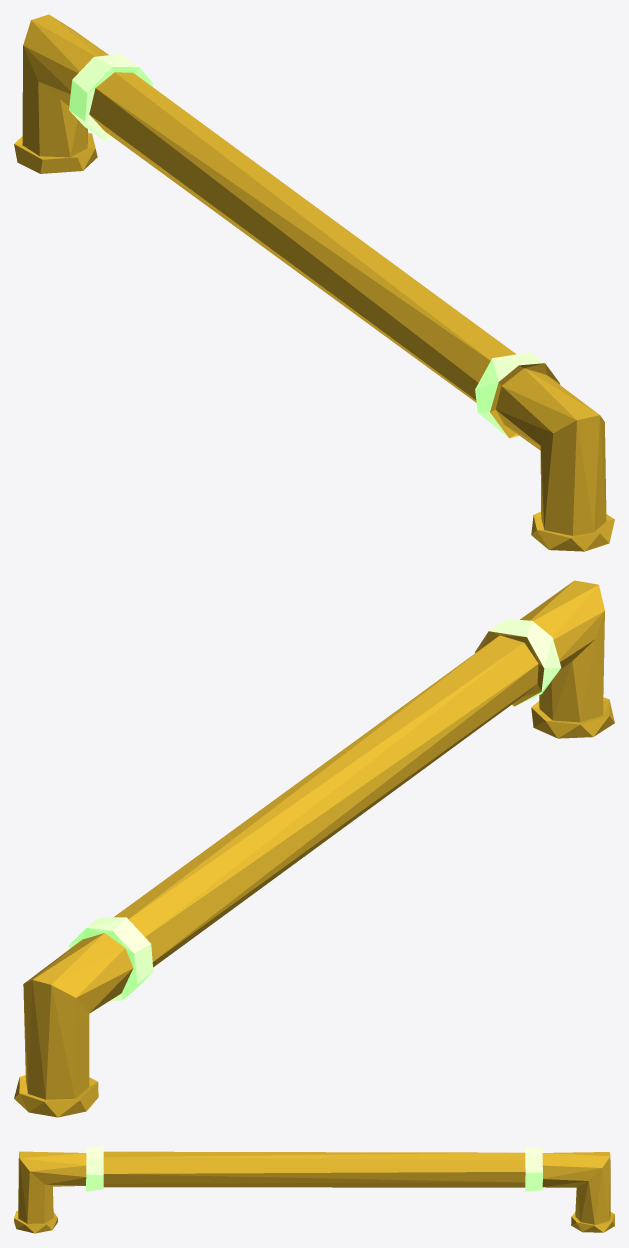
Rendered from Pipe1.fbx.
3 views of the same model, one above another, from view 1: azimuth 30°, elevation 25°; view 2: azimuth 150°, elevation 25°; view 3: azimuth 270°, elevation 25° (orthographic). The views are drawn at different scales.
Visible parts, largest first — view 1: Elbow Joint.002; view 2: Elbow Joint.002; view 3: Elbow Joint.002.
Part boxes in pixels (left/top/right/bottom): Elbow Joint.002: left=14, top=14, right=614, bottom=551; Elbow Joint.002: left=14, top=580, right=614, bottom=1117; Elbow Joint.002: left=14, top=1146, right=614, bottom=1233.
Bounding box in the file's own units: 163 × 297 × 2163.
